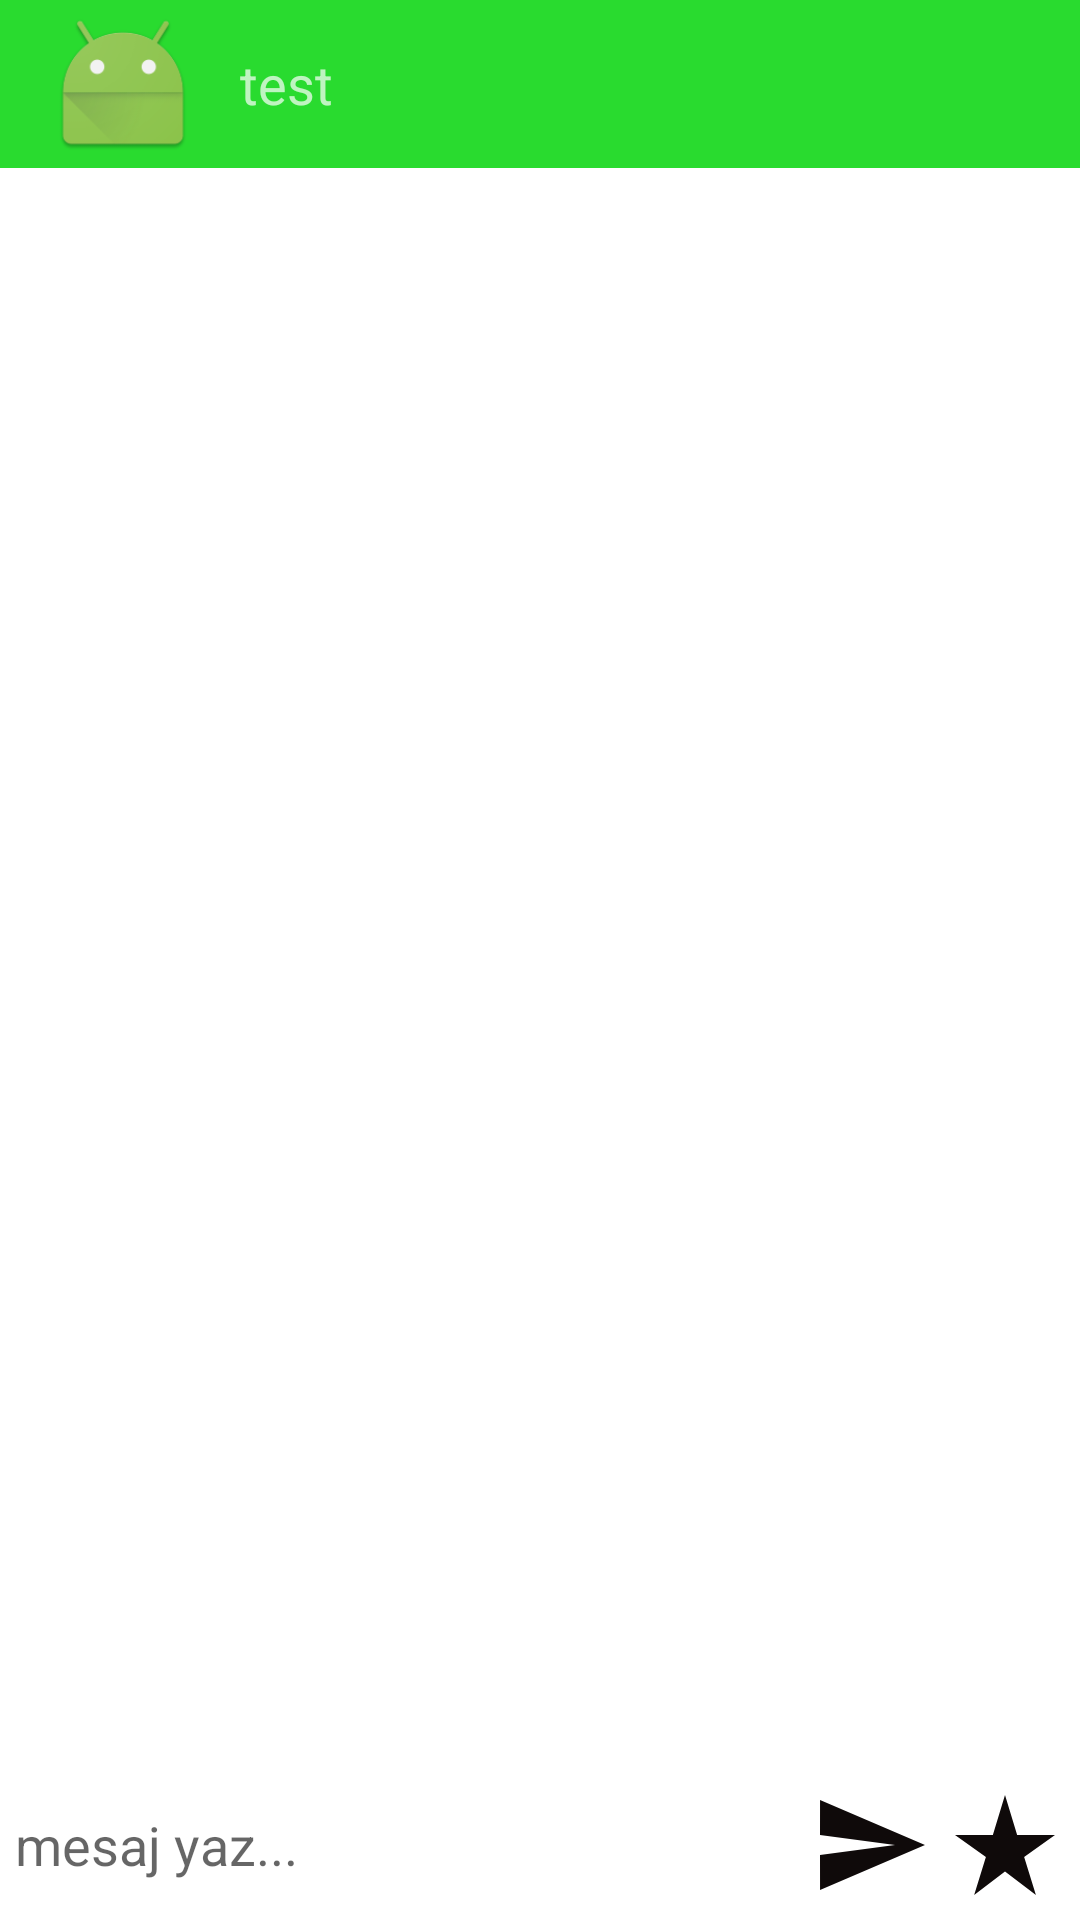

Locate icon controls on the screen. Image size 1080*1920, boxes as (x1, y1, x2, y2).
send: (820, 1800, 925, 1890)
star rate: (955, 1795, 1055, 1895)
